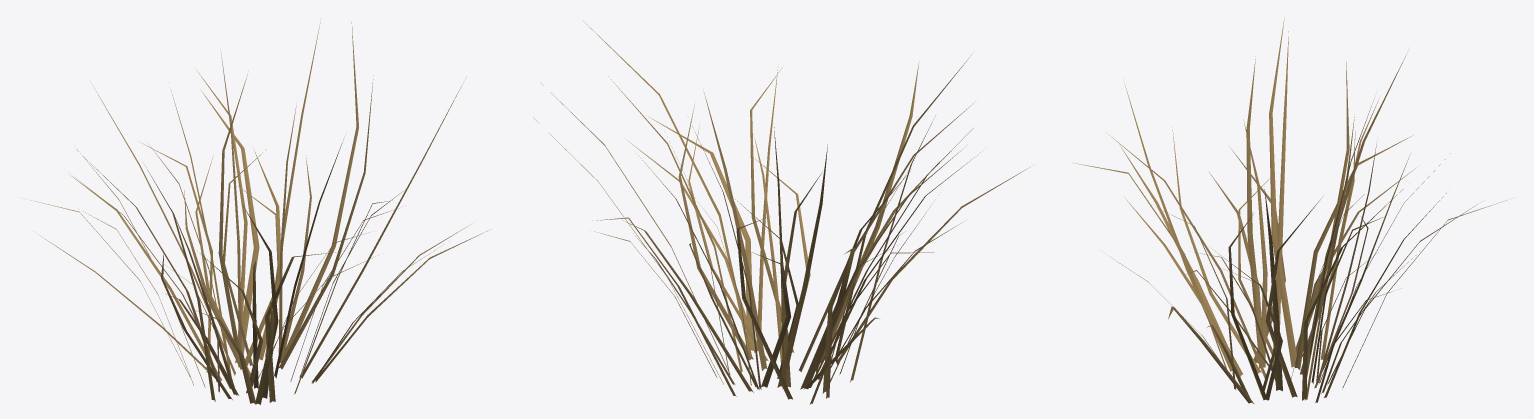
Rendered from SM_CN_Grass_A_LOD1.glb.
The picture shows the model from 3 angles, left to right: view 1: azimuth 30°, elevation 25°; view 2: azimuth 150°, elevation 25°; view 3: azimuth 270°, elevation 25°; orthographic projection. The views are drawn at different scales.
Parts seen in each view (by area): view 1: SM_CN_Grass_A_LOD1; view 2: SM_CN_Grass_A_LOD1; view 3: SM_CN_Grass_A_LOD1.
Boxes of the visible parts, box(x1,y1,x2,y2) form: SM_CN_Grass_A_LOD1: box(23, 18, 490, 404); SM_CN_Grass_A_LOD1: box(533, 21, 1029, 404); SM_CN_Grass_A_LOD1: box(1072, 17, 1506, 404).
Size of the model in its own units: 0.62 by 0.43 by 0.6194.
1 material, 1 textured.
